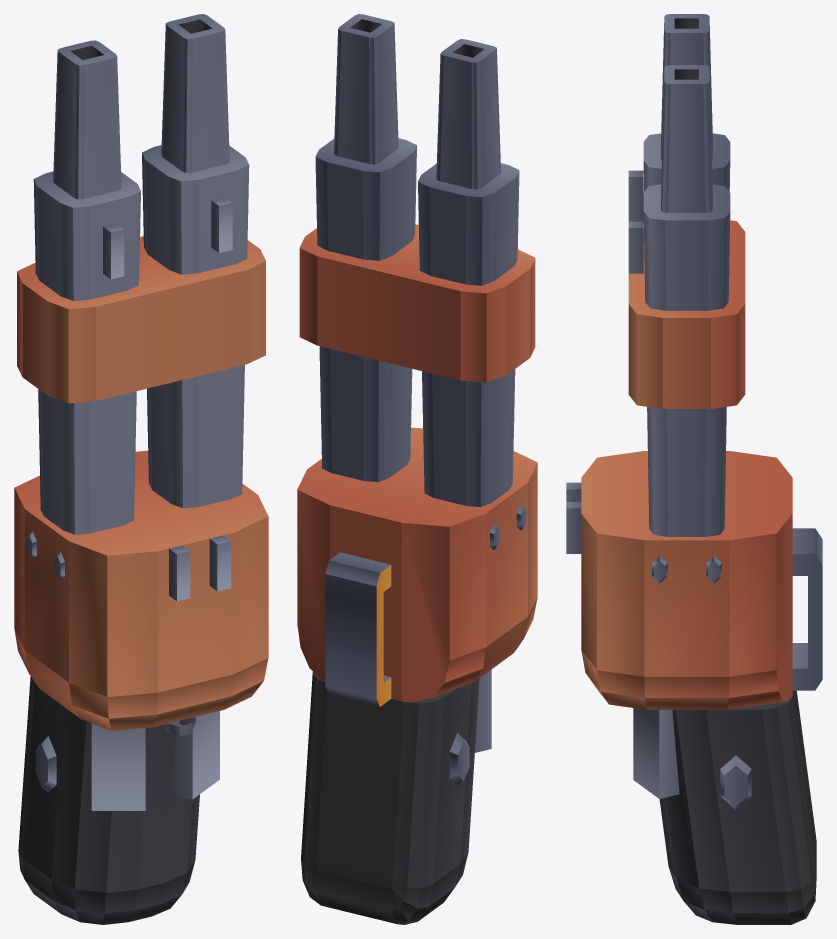
File: repeater_rifle.glb
3 renders of one model, left to right at view 1: azimuth 30°, elevation 25°; view 2: azimuth 150°, elevation 25°; view 3: azimuth 270°, elevation 25°, orthographic. The views are drawn at different scales.
Parts seen in each view (by area): view 1: repeater_rifle; view 2: repeater_rifle; view 3: repeater_rifle.
Boxes of the visible parts, x1,y1,x2,y2 form: repeater_rifle: [14, 14, 268, 924]; repeater_rifle: [297, 14, 537, 924]; repeater_rifle: [566, 14, 822, 924].
Size of the model in its own units: 0.2011 by 0.8 by 0.217.
1 material, 1 textured.
